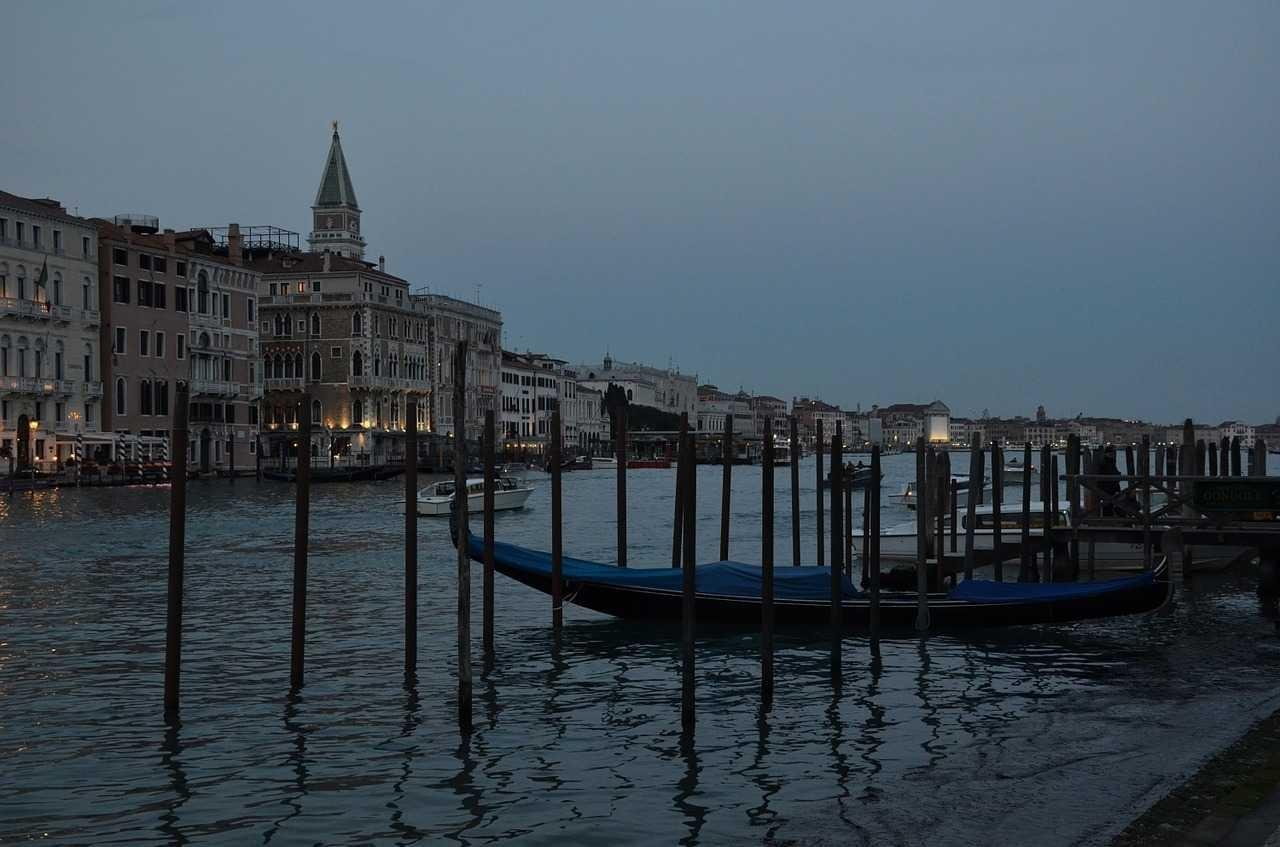kayak: (451, 513, 1169, 632), (919, 556, 1172, 626), (414, 479, 536, 515), (823, 461, 883, 488)
